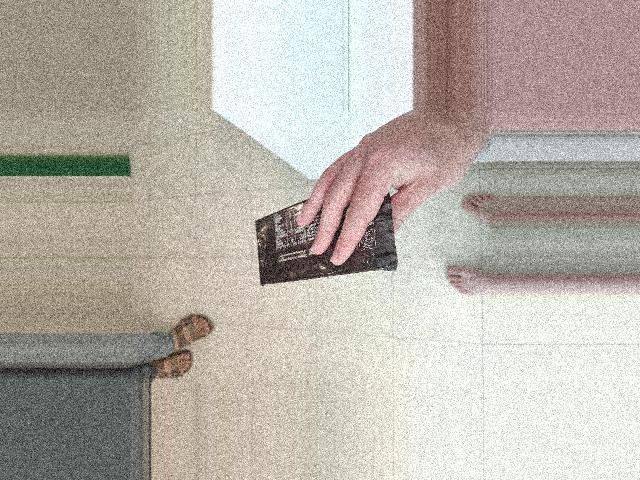chocolate: (222, 230, 339, 396)
